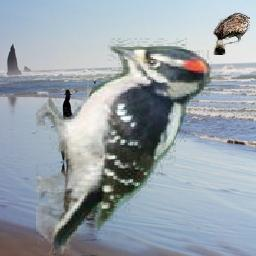Sparrow: (214, 13, 251, 56)
Woodpecker: (36, 38, 212, 254)
